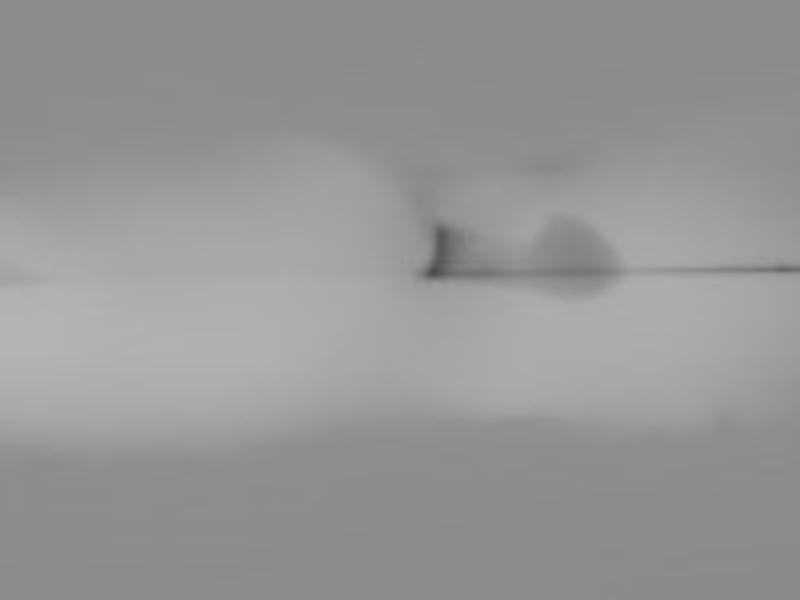defect: (520, 216, 627, 295)
